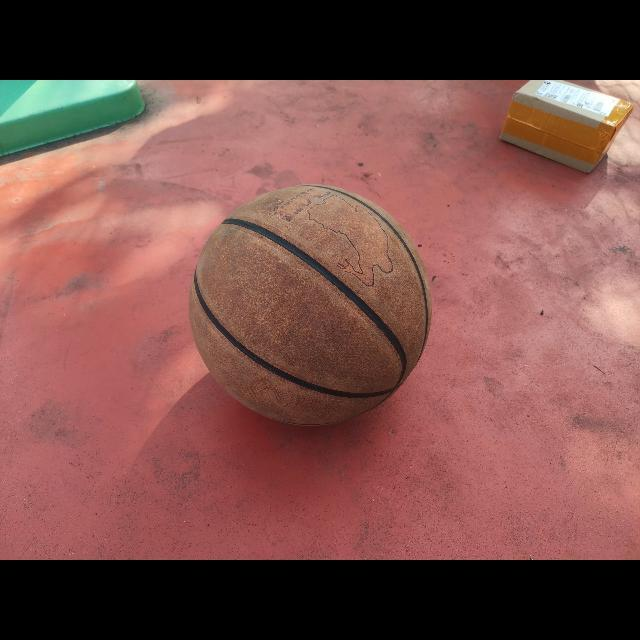basketball: (188, 184, 432, 428)
